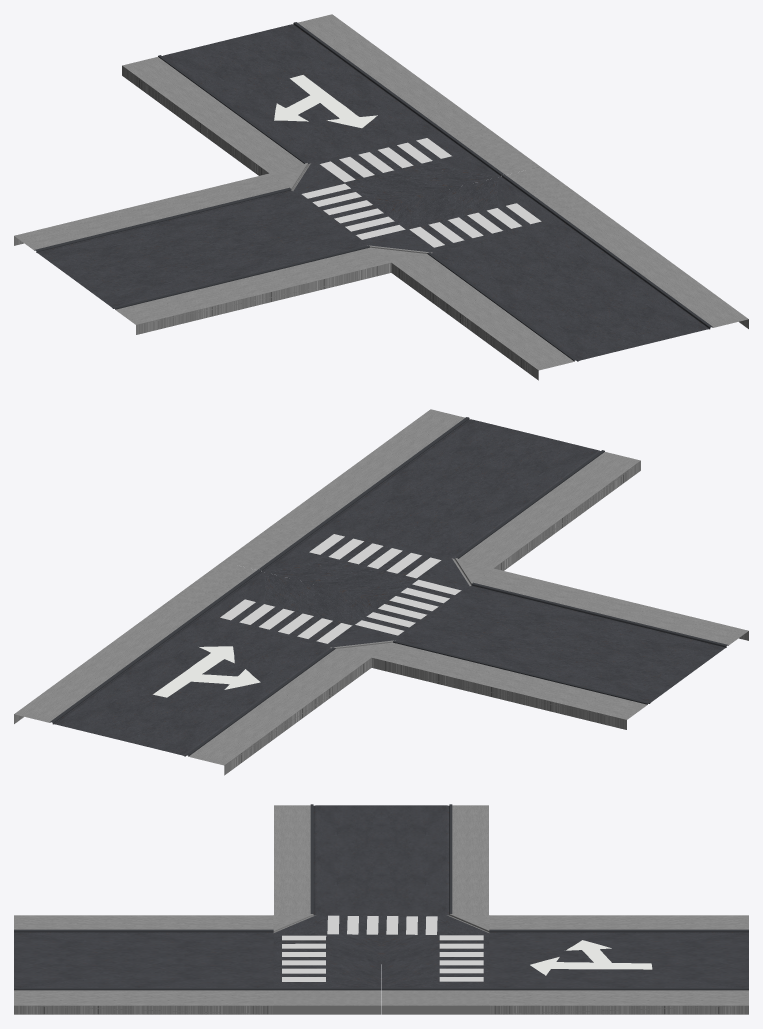
File: TJunction.dae
3 views of the same model, one above another, from view 1: azimuth 30°, elevation 25°; view 2: azimuth 150°, elevation 25°; view 3: azimuth 270°, elevation 25° (orthographic). The views are drawn at different scales.
Parts seen in each view (by area): view 1: RoadStraight.002, Plane.002, Plane.001, Plane.003, Plane.006; view 2: RoadStraight.002, Plane.002, Plane.001, Plane.006, Plane.003; view 3: RoadStraight.002, Plane.006, Plane.003, Plane.002, Plane.001.
Part boxes in pixels (<box>): RoadStraight.002: <box>14,14,748,380</box>; Plane.002: <box>274,75,377,128</box>; Plane.001: <box>301,183,405,239</box>; Plane.003: <box>409,203,541,247</box>; Plane.006: <box>320,138,451,182</box>; RoadStraight.002: <box>14,409,748,775</box>; Plane.002: <box>153,646,260,697</box>; Plane.001: <box>355,579,461,635</box>; Plane.006: <box>220,599,352,643</box>; Plane.003: <box>309,534,441,578</box>; RoadStraight.002: <box>14,804,748,1014</box>; Plane.006: <box>439,935,483,981</box>; Plane.003: <box>282,935,326,981</box>; Plane.002: <box>530,940,652,975</box>; Plane.001: <box>327,915,437,934</box>.
Size of the model in its own units: 45.61 by 70.68 by 1.05.
Materials: 5 (3 with a texture image).
